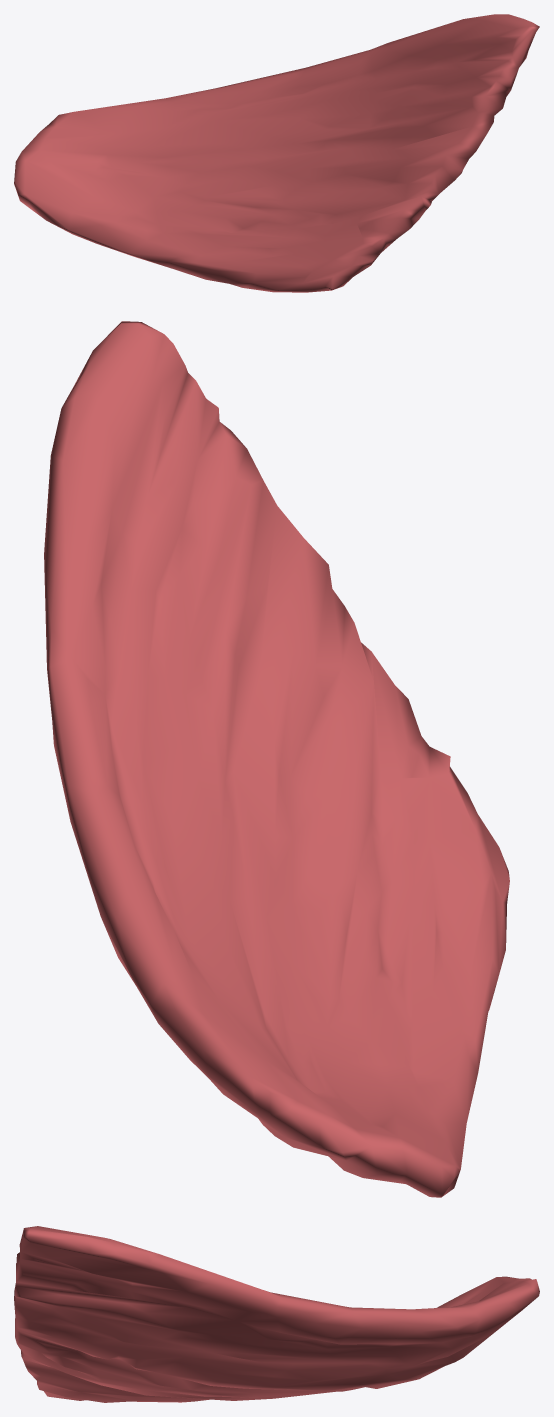
3 views of the same model, one above another, from view 1: azimuth 30°, elevation 25°; view 2: azimuth 150°, elevation 25°; view 3: azimuth 270°, elevation 25° (orthographic). The views are drawn at different scales.
Visible parts, largest first — view 1: 左侧环甲肌直部; view 2: 左侧环甲肌直部; view 3: 左侧环甲肌直部.
Boxes of the visible parts, x1,y1,x2,y2 form: 左侧环甲肌直部: (14,14,539,292); 左侧环甲肌直部: (44,321,509,1197); 左侧环甲肌直部: (14,1226,539,1402).
Size of the model in its own units: 0.0143 by 0.0101 by 0.0152.
